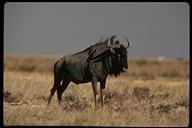antelope: (47, 34, 132, 108)
grass: (131, 60, 188, 124)
sky: (6, 4, 187, 34)
